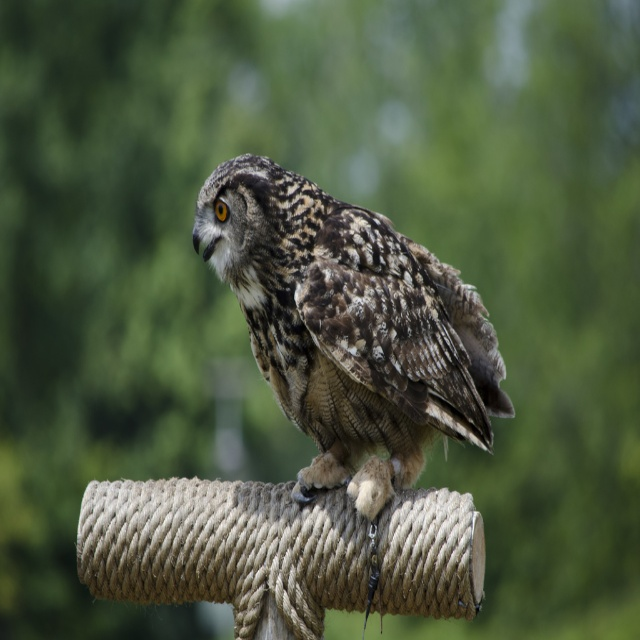Owl: (190, 151, 516, 524)
